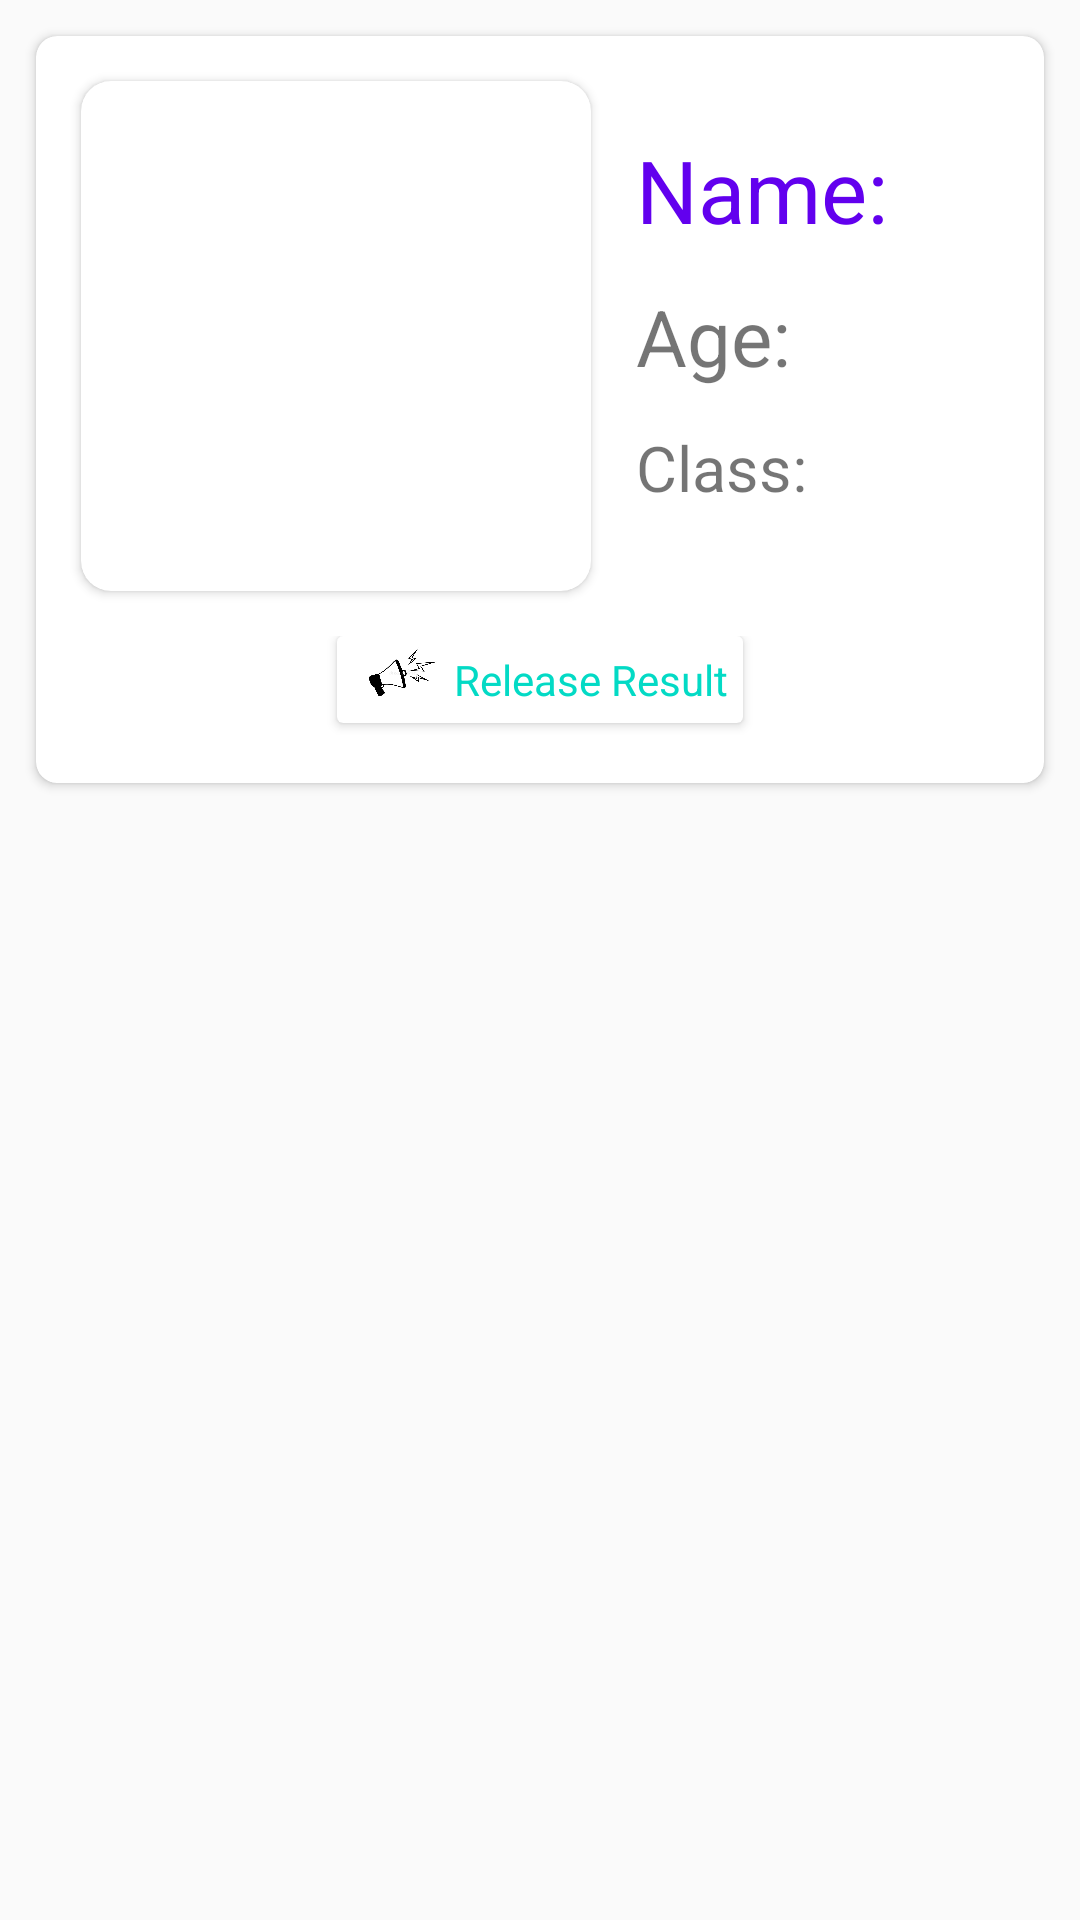

Named icons in this screenshot (1080px x 1920px) and their centers, (x=x, y=y):
announcement: (x=402, y=672)
